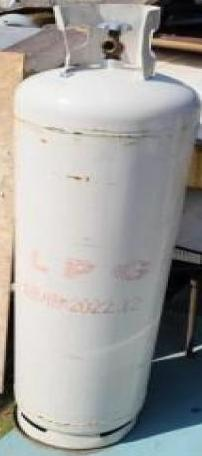cylinder: (1, 1, 202, 456)
